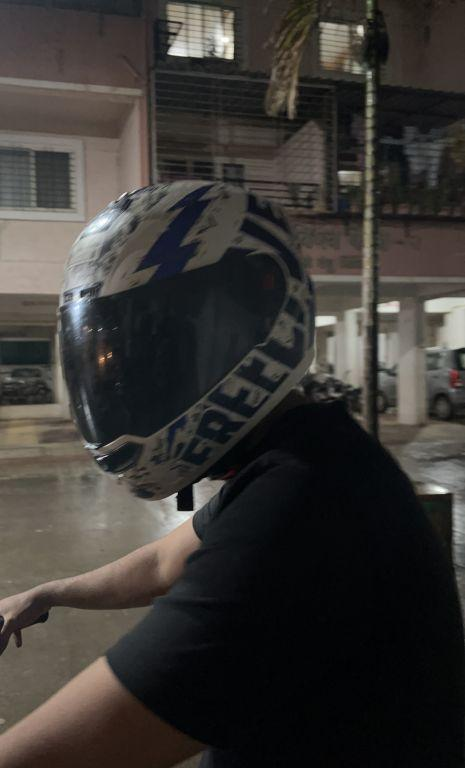helmet: (50, 165, 326, 510)
